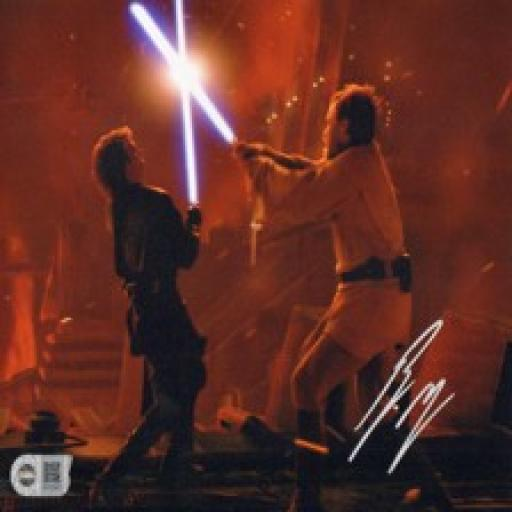human: (226, 77, 422, 464), (76, 130, 196, 457)
lightsaber: (132, 3, 264, 167), (174, 2, 206, 238)
